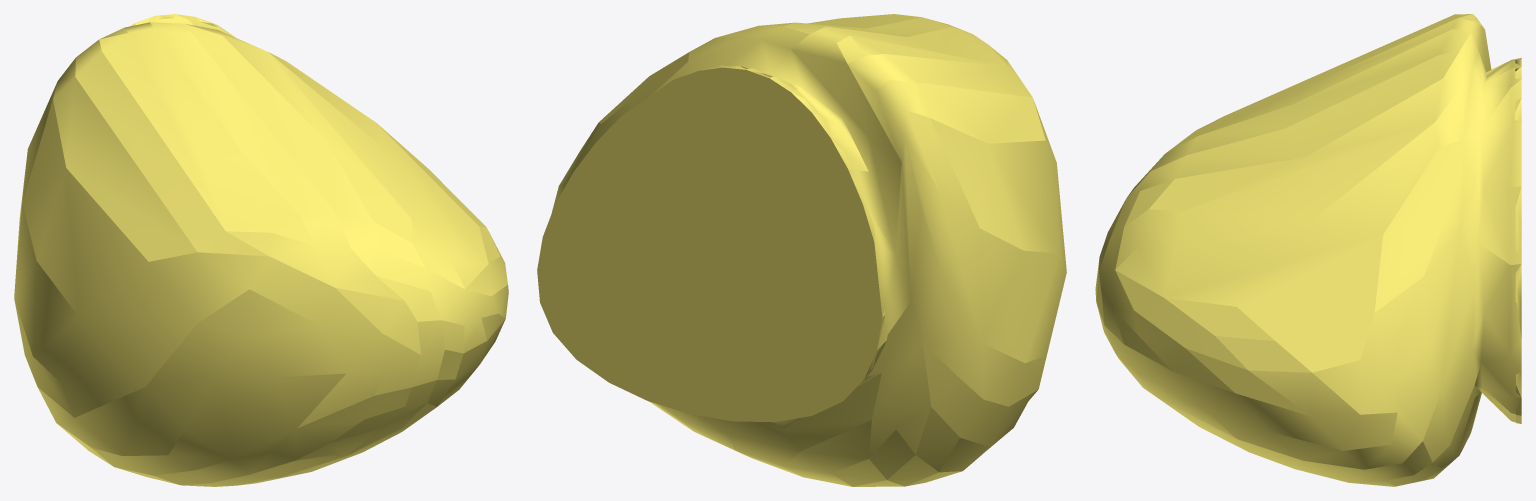
The model's file is cerebellumOPT.fbx.
3 renders of one model, left to right at view 1: azimuth 30°, elevation 25°; view 2: azimuth 150°, elevation 25°; view 3: azimuth 270°, elevation 25°, orthographic. The views are drawn at different scales.
Parts seen in each view (by area): view 1: Cube.010; view 2: Cube.010; view 3: Cube.010.
Part boxes in pixels (x1,y1,x2,y2): Cube.010: (14,14,508,486); Cube.010: (537,14,1066,486); Cube.010: (1095,14,1521,486).
Size of the model in its own units: 855 by 799 by 752.
